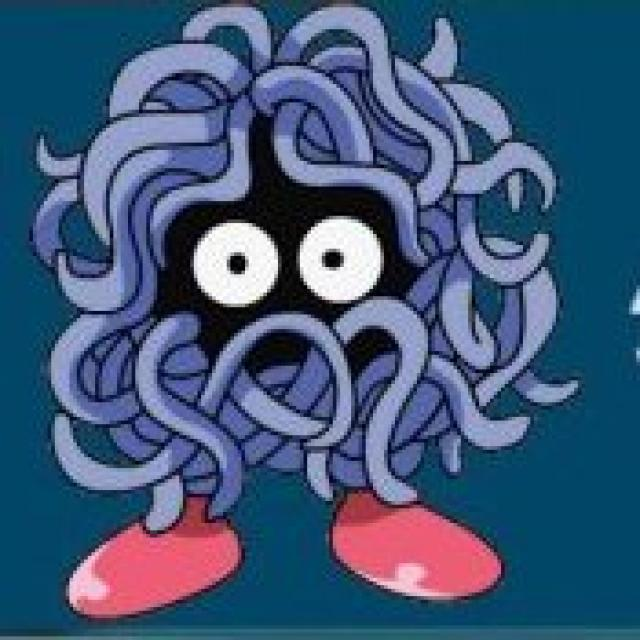Tangela: (60, 13, 523, 609)
